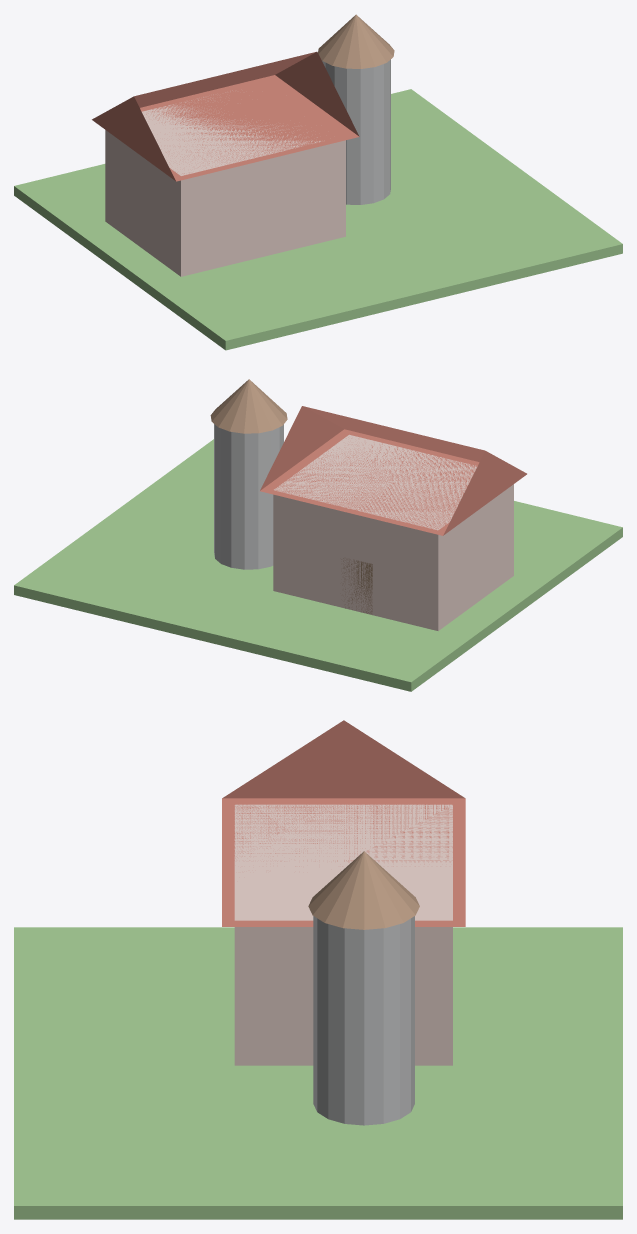
Rendered from farm.glb.
The picture shows the model from 3 angles, top to bottom: view 1: azimuth 30°, elevation 25°; view 2: azimuth 150°, elevation 25°; view 3: azimuth 270°, elevation 25°; orthographic projection. The views are drawn at different scales.
Visible parts, largest first — view 1: ground, barn, barn_roof, silo, silo_cap; view 2: ground, barn, barn_roof, silo, silo_cap, barn_door; view 3: ground, barn, silo, barn_roof, silo_cap.
Part boxes in pixels (x1,y1,x2,y2): ground: [14, 89, 622, 350]; barn: [105, 90, 345, 276]; barn_roof: [92, 51, 359, 181]; silo: [322, 59, 390, 204]; silo_cap: [318, 14, 394, 68]; ground: [14, 439, 622, 691]; barn: [273, 434, 513, 630]; barn_roof: [260, 406, 526, 535]; silo: [214, 424, 283, 569]; silo_cap: [210, 379, 287, 433]; barn_door: [341, 558, 372, 614]; ground: [14, 927, 622, 1219]; barn: [234, 804, 452, 1065]; silo: [313, 916, 414, 1125]; barn_roof: [222, 720, 465, 926]; silo_cap: [308, 851, 419, 929].
Bounding box in the file's own units: 2.6 × 1.16 × 2.4.
